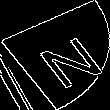N_NW: (14, 23, 96, 87)
